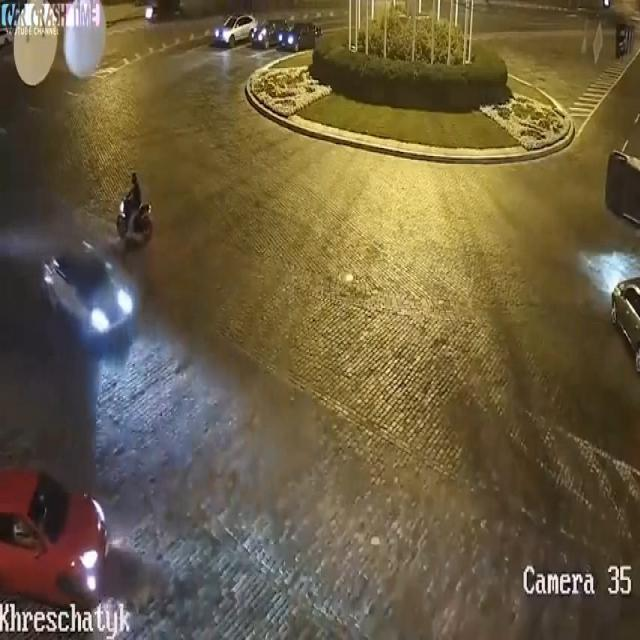Accident: (606, 115, 640, 296)
